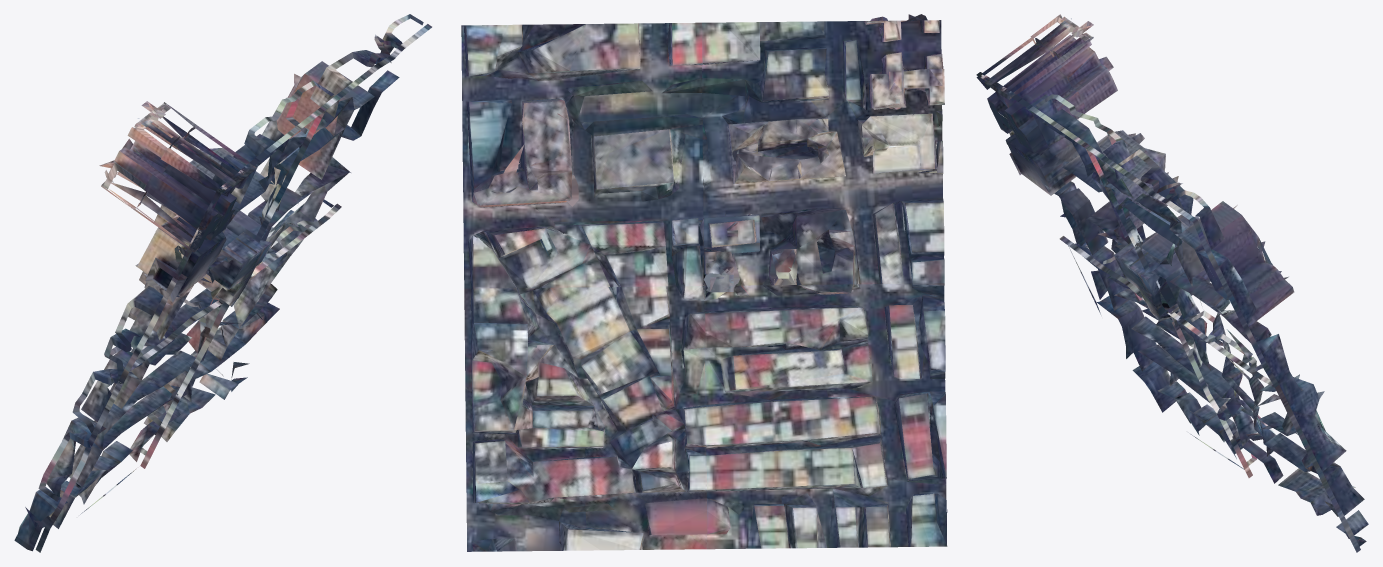
3 views of the same model, side by side, from view 1: azimuth 30°, elevation 25°; view 2: azimuth 150°, elevation 25°; view 3: azimuth 270°, elevation 25° (orthographic). The views are drawn at different scales.
Size of the model in its own units: 313 by 309 by 264.
Materials: 2 (2 with a texture image).
